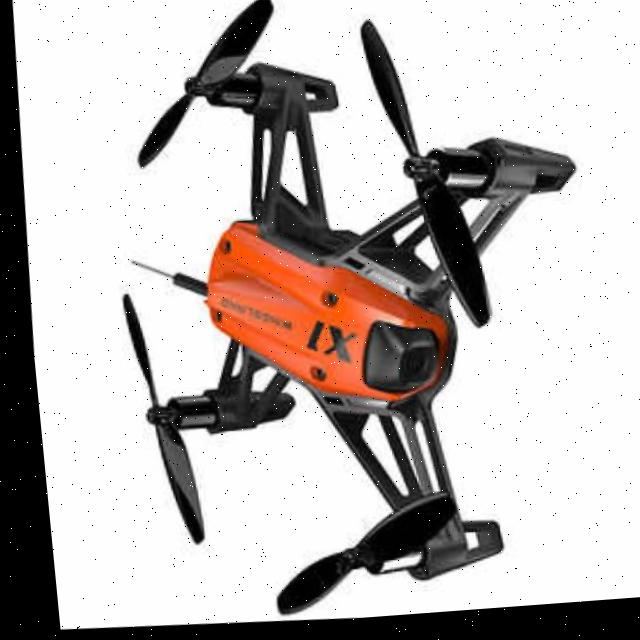drones: (57, 0, 621, 637)
